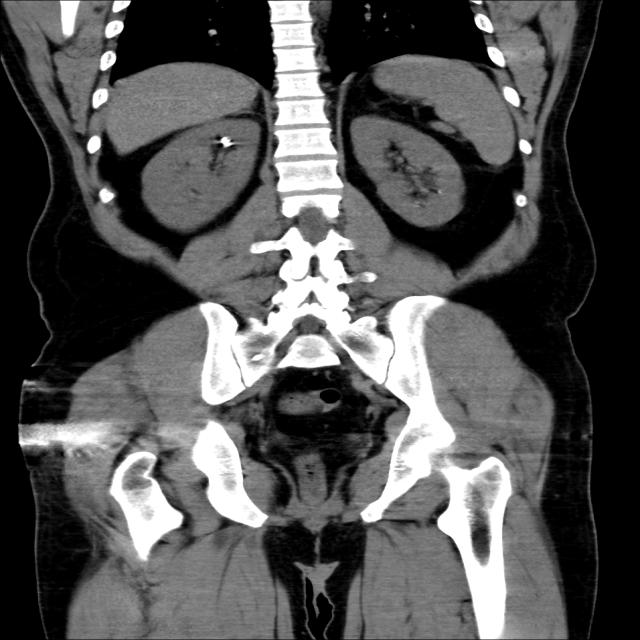kidneystone: (218, 136, 236, 149)
